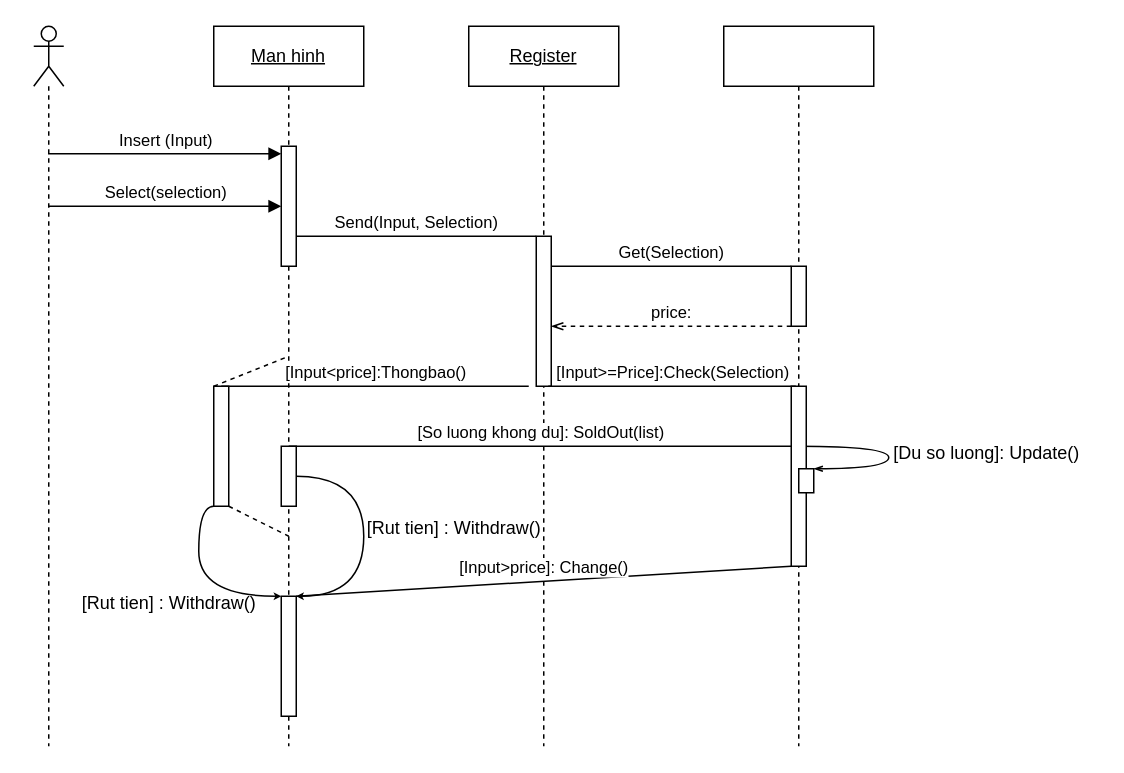
Image size: 1124x773. Some labels were removed from this diagram. Here are the shapes that lost their labels. From the top down, the box of each, then its label:
(32, 25, 64, 746): Object 1
(722, 25, 874, 746): Database
